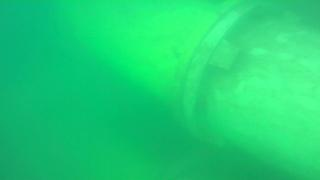pipe: (57, 1, 320, 180), (4, 57, 172, 180)
